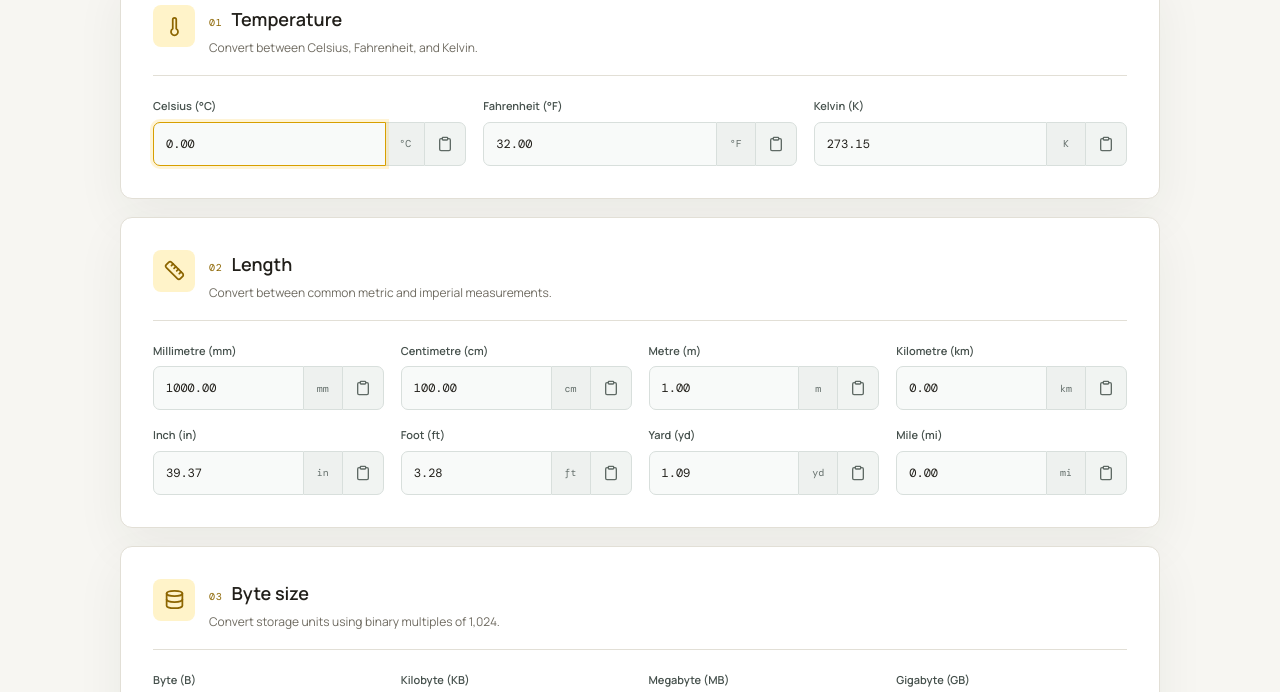
Scenario: UnitConverterTool › converts exact length factors and binary byte sizes
Replace the text in the field labelled "Inch (in)" with "1" at (228, 472), box 153,450 -> 304,494
(page scrolled)
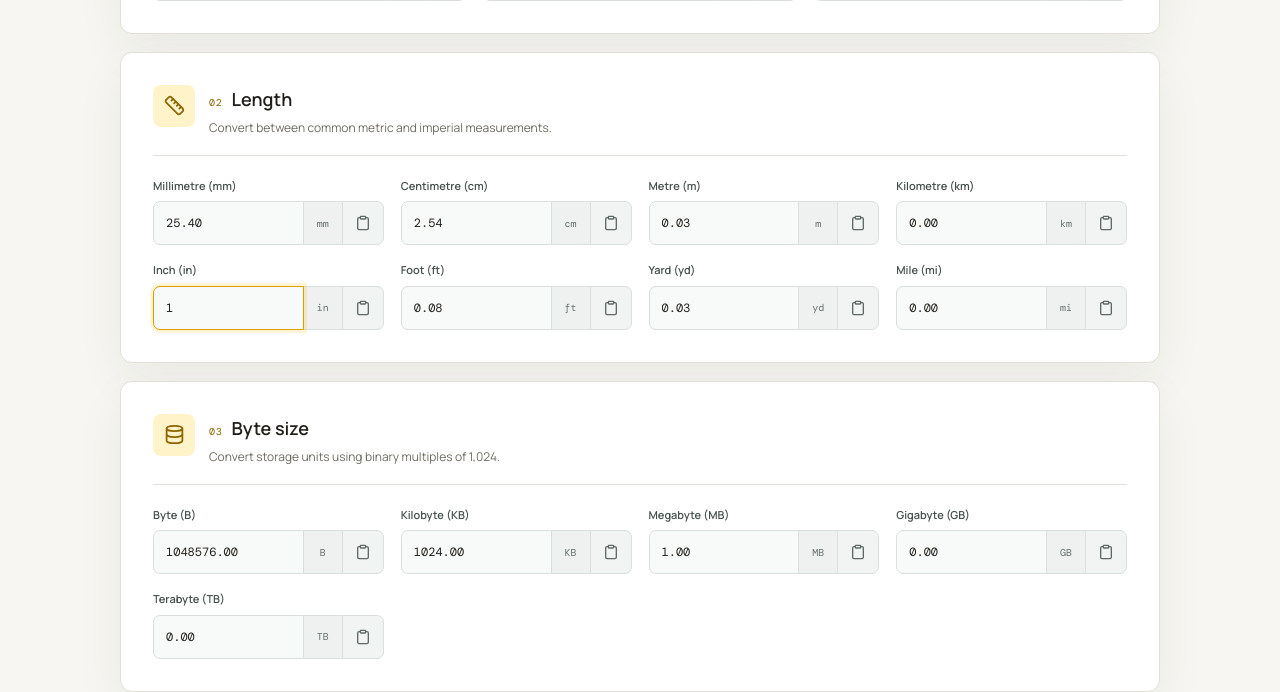
Check: the field labelled "Byte (B)" holds "1048576.00", box 153,530 -> 304,574
Check: the field labelled "Millimetre (mm)" holds "25.40", box 153,201 -> 304,245
Check: the field labelled "Centimetre (cm)" holds "2.54", box 401,201 -> 552,245
